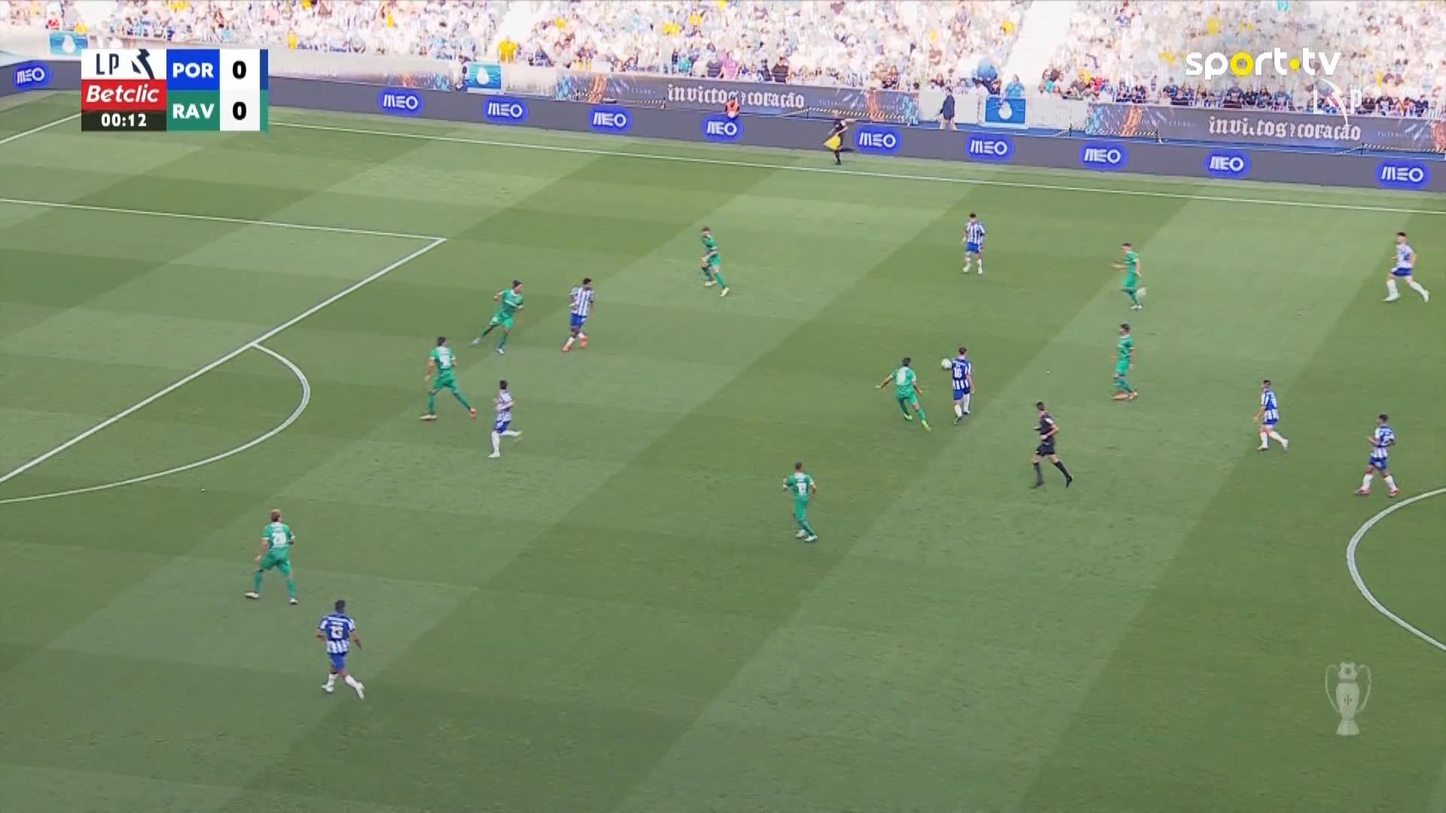ball: (939, 355, 954, 372)
player: (244, 507, 299, 604), (315, 598, 365, 700), (419, 335, 476, 421), (874, 355, 931, 432), (470, 279, 524, 355), (1353, 412, 1400, 497), (1382, 230, 1429, 303), (781, 461, 818, 542), (487, 379, 522, 458), (1252, 378, 1289, 452), (941, 345, 975, 425), (560, 276, 595, 352), (1109, 241, 1147, 310), (698, 225, 729, 297), (1111, 321, 1138, 400), (959, 212, 986, 275)
referee: (1028, 400, 1072, 489), (822, 113, 848, 165)
